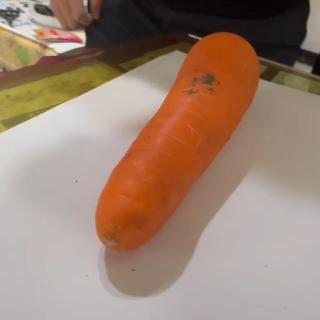carrot: (93, 32, 261, 255)
